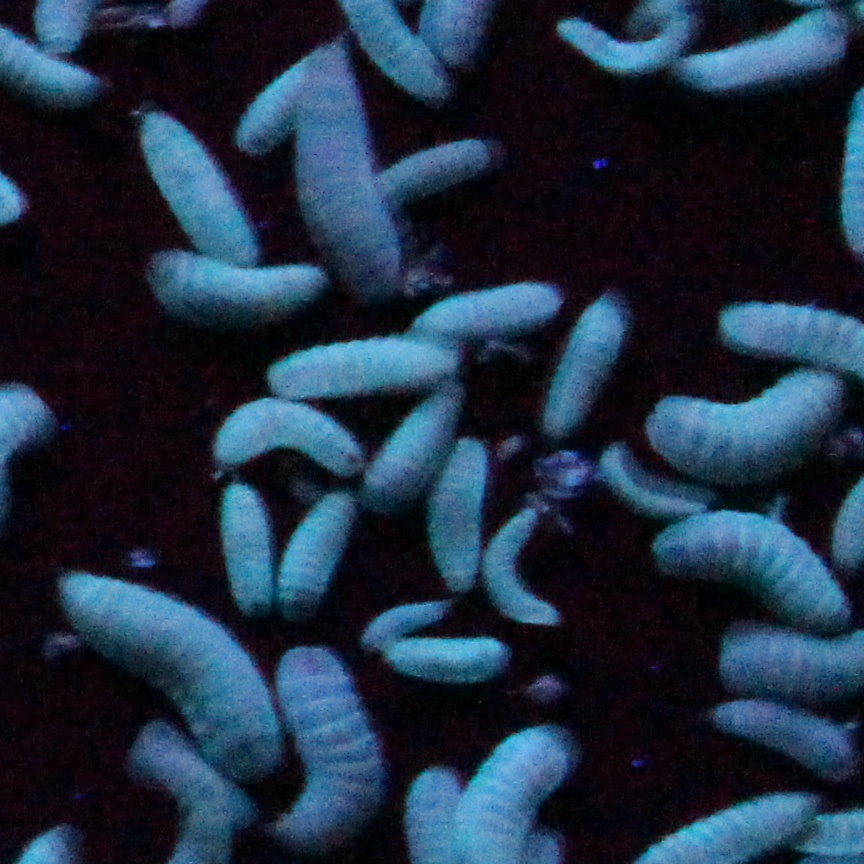larve: (62, 569, 302, 779), (287, 44, 412, 304), (644, 499, 854, 632), (269, 637, 377, 844), (142, 114, 277, 279), (267, 317, 467, 402), (652, 374, 827, 462), (142, 249, 334, 327), (204, 392, 362, 477), (362, 124, 499, 217), (562, 2, 699, 92), (367, 382, 459, 507), (427, 424, 492, 599), (727, 297, 854, 384), (479, 512, 569, 634), (212, 482, 282, 624), (552, 299, 624, 432), (722, 692, 847, 767), (419, 279, 562, 342), (292, 487, 354, 622), (727, 637, 862, 697), (389, 632, 514, 692), (247, 64, 322, 154), (367, 582, 439, 649)
